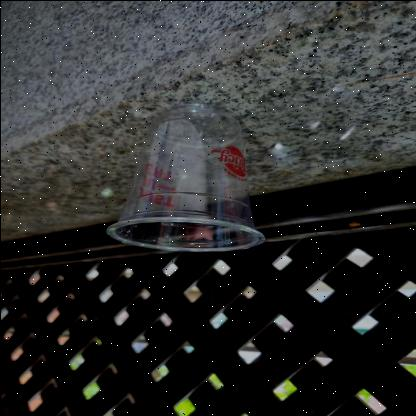Others: (106, 100, 268, 254)
